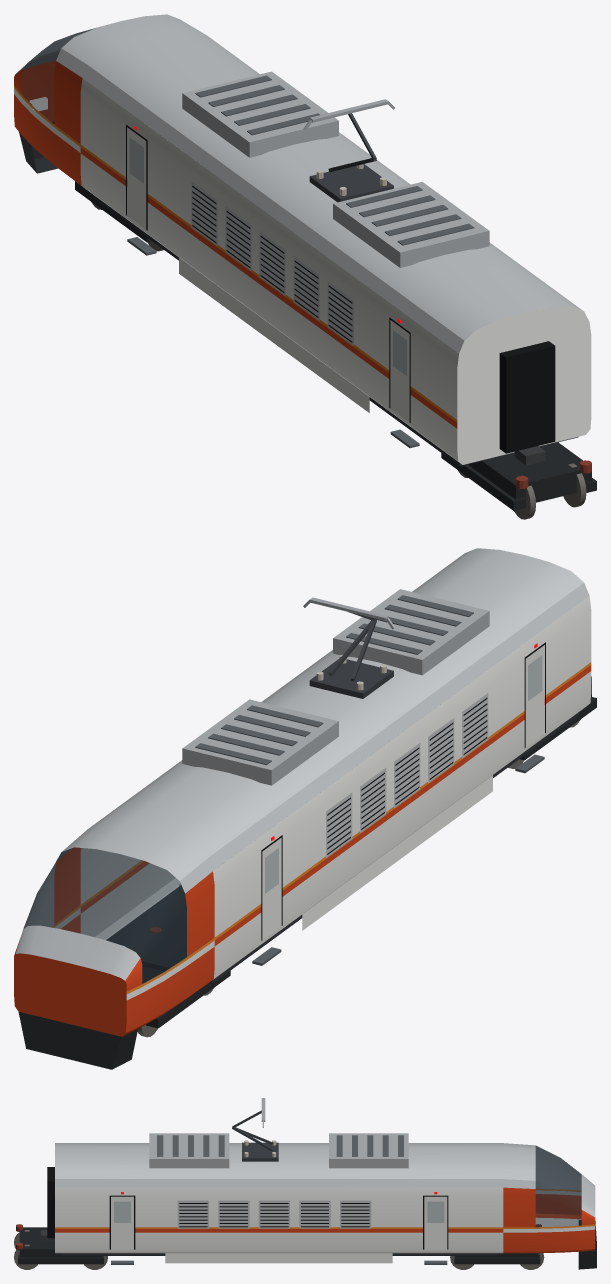
Rendered from pp-lead.glb.
3 renders of one model, top to bottom at view 1: azimuth 30°, elevation 25°; view 2: azimuth 150°, elevation 25°; view 3: azimuth 270°, elevation 25°, orthographic. The views are drawn at different scales.
Parts seen in each view (by area): view 1: PP_Lead; view 2: PP_Lead; view 3: PP_Lead.
Boxes of the visible parts, <box> form: PP_Lead: <box>14,14,596,519</box>; PP_Lead: <box>14,548,596,1069</box>; PP_Lead: <box>14,1098,596,1269</box>.
Size of the model in its own units: 3.08 by 5.48 by 18.98.
